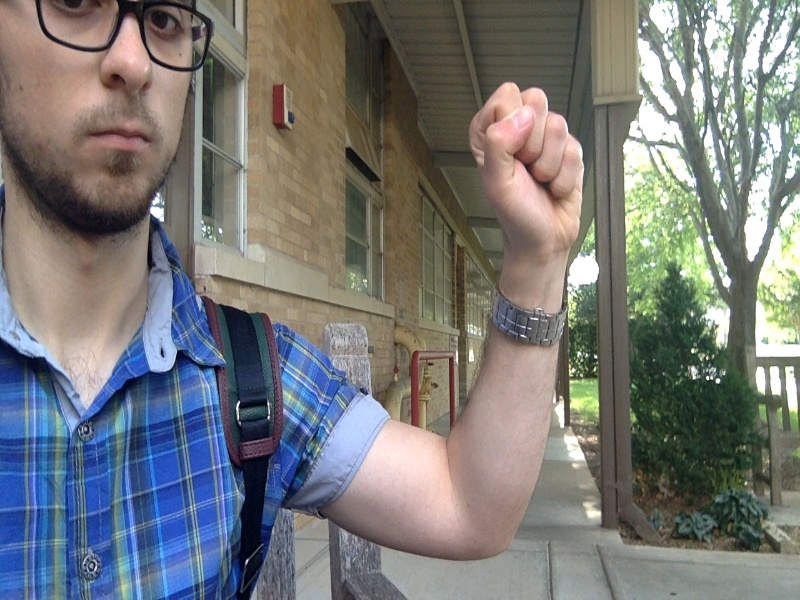0-hand: (468, 84, 579, 264)
